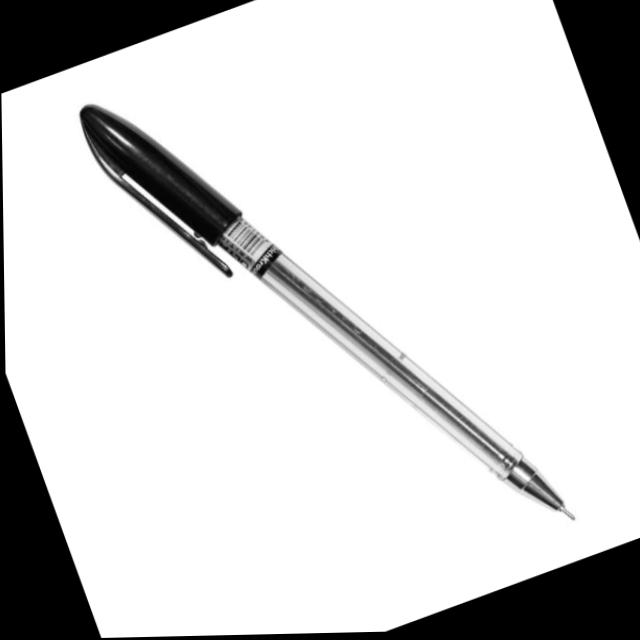pen: (70, 0, 567, 630)
